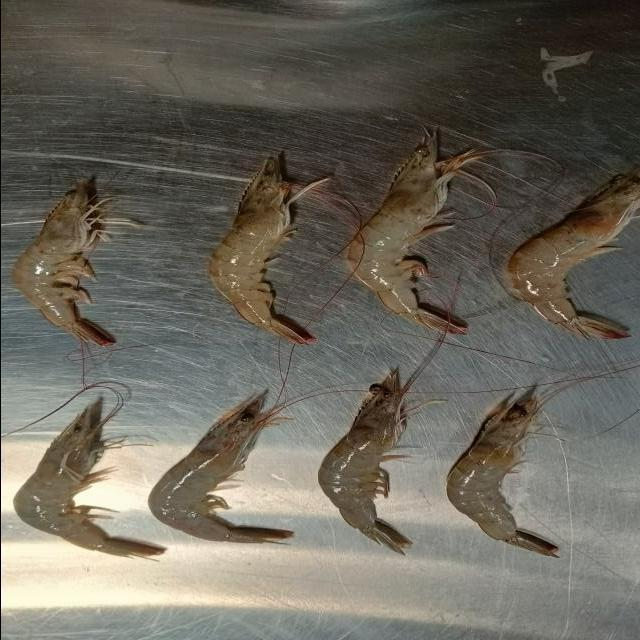shrimp: (346, 135, 483, 334), (14, 400, 164, 559), (505, 174, 640, 339), (146, 394, 290, 544), (208, 159, 323, 344), (11, 180, 131, 346), (317, 371, 419, 552), (445, 396, 556, 555)
